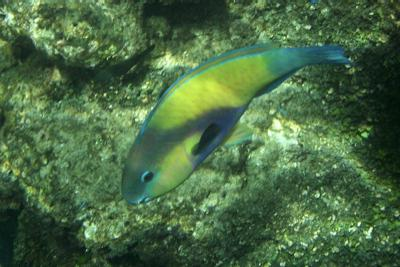Scaridae -Parrotfishes-: (112, 39, 357, 206)
